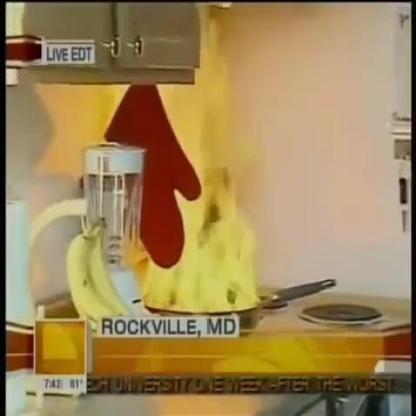fire: (143, 136, 263, 314)
